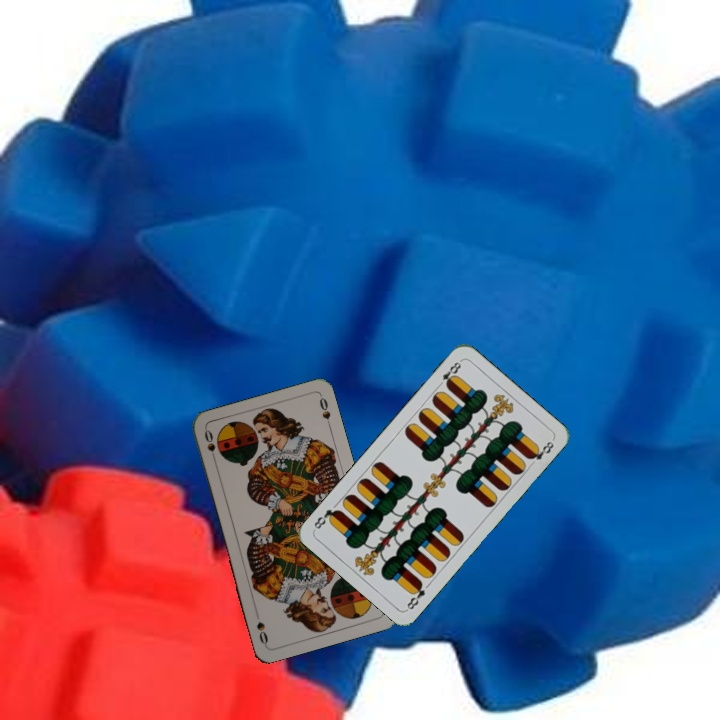E8: (433, 356, 464, 390), (403, 577, 428, 613)
SO: (200, 426, 219, 466)
